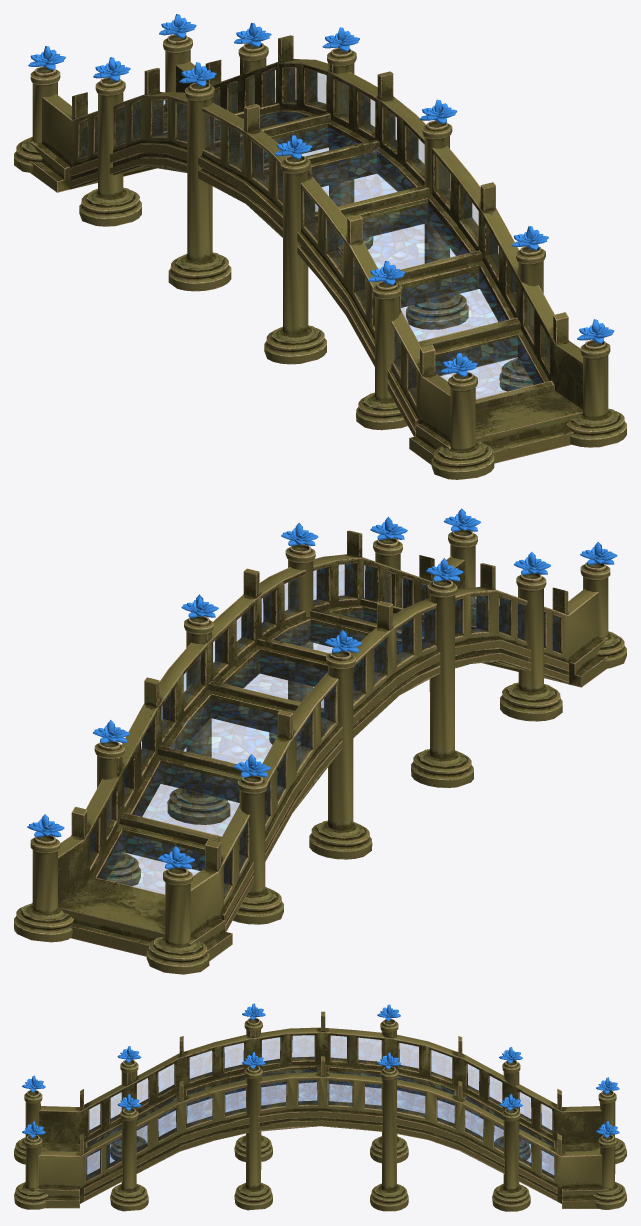
The model's file is bridgeWhole_lowPolyCompressed(GlassProblem).glb.
The picture shows the model from 3 angles, top to bottom: view 1: azimuth 30°, elevation 25°; view 2: azimuth 150°, elevation 25°; view 3: azimuth 270°, elevation 25°; orthographic projection. The views are drawn at different scales.
Parts seen in each view (by area): view 1: Mesh_168.018; view 2: Mesh_168.018; view 3: Mesh_168.018.
Boxes of the visible parts, x1,y1,x2,y2 form: Mesh_168.018: (14, 14, 626, 479); Mesh_168.018: (14, 508, 626, 974); Mesh_168.018: (14, 1003, 626, 1211).
Bounding box in the file's own units: 1.35 × 1.39 × 5.14.
Materials: 5 (4 with a texture image).
